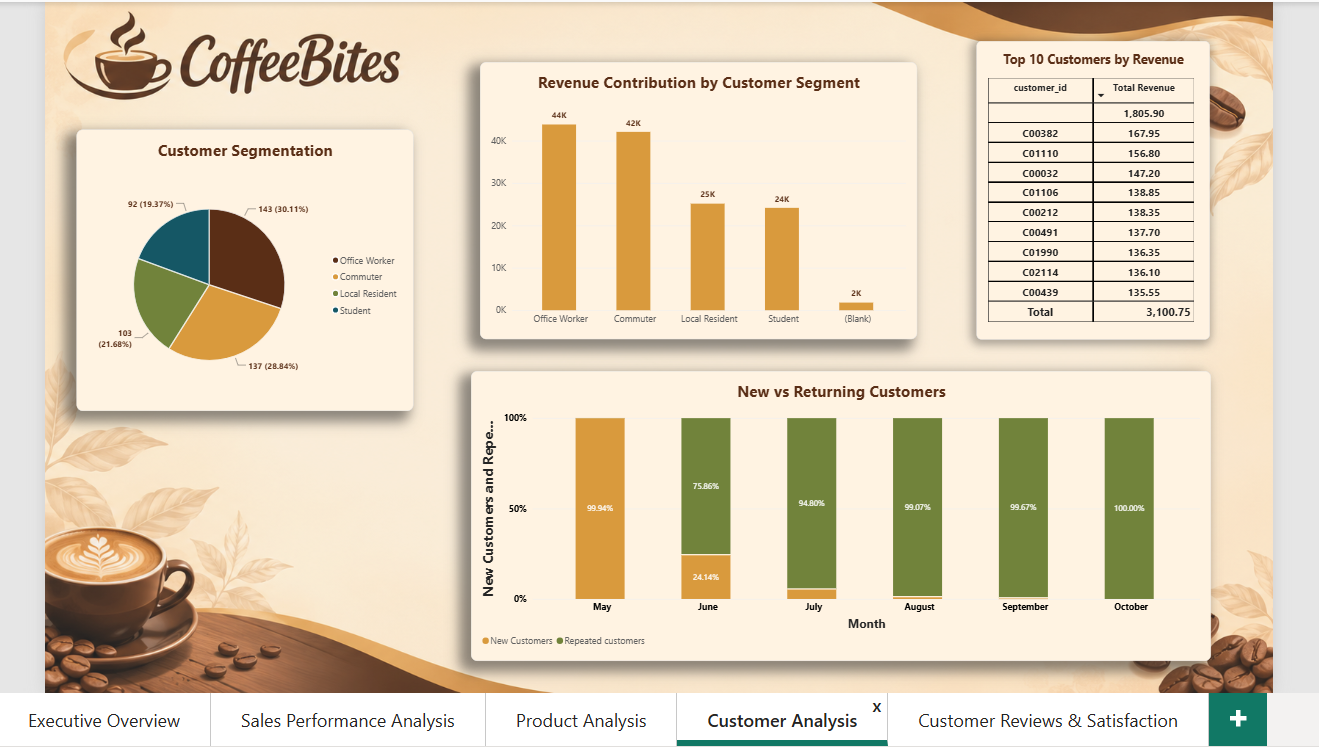

This screenshot's page, from the dashboard's own definition file:
{"tool":"powerbi","page":{"name":"Customer Analysis","canvas":[1920,1080],"ordinal":3},"visuals":[{"type":"hundredPercentStackedColumnChart","title":"New vs Returning Customers","fields":{"Category":["Transaction_raw_Clean.order_datetime.Variation.Date Hierarchy.Month"],"Y":["Customers.New Customers","Customers.Repeated customers"]},"box":[666.7,576.7,1156.7,453.3],"z":0},{"type":"pieChart","title":"Customer Segmentation","fields":{"Category":["Customers.customer_segment"],"Y":["CountNonNull(Customer_Reviews_Clean.customer_id)"]},"box":[50,200,526.7,440],"z":1},{"type":"tableEx","title":"Top 10 Customers by Revenue","fields":{"Values":["Transaction_raw_Clean.customer_id","Transaction_Items_Clean.Total Revenue"]},"box":[1456.7,60,364.4,466.7],"z":2},{"type":"columnChart","title":"Revenue Contribution by Customer Segment","fields":{"Category":["Customers.customer_segment"],"Y":["Transaction_Items_Clean.Total Revenue"]},"box":[680,93.3,683.3,433.3],"z":3}]}

Visuals, with their boxes on the page's 1920x1080 design canvas (x1, y1, x2, y2). These are canvas units, not pixel positions in the 1319x747 screenshot, which may show the page scaled, cropped or inside an application window:
"New vs Returning Customers" hundredPercentStackedColumnChart: (x1=667, y1=577, x2=1823, y2=1030)
"Customer Segmentation" pieChart: (x1=50, y1=200, x2=577, y2=640)
"Top 10 Customers by Revenue" tableEx: (x1=1457, y1=60, x2=1821, y2=527)
"Revenue Contribution by Customer Segment" columnChart: (x1=680, y1=93, x2=1363, y2=527)
